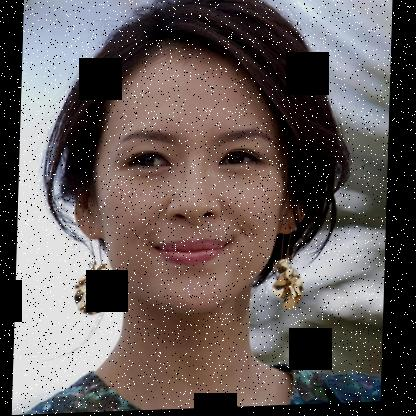Female: (72, 41, 313, 322)
